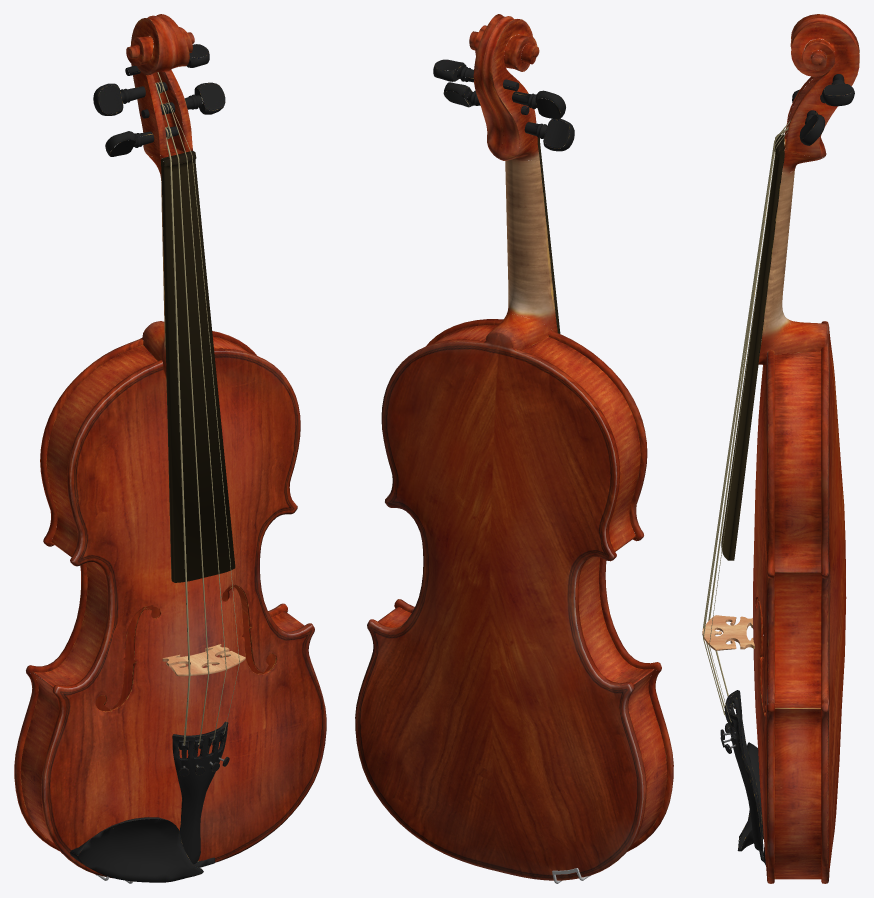
Rendered from violin.glb.
3 renders of one model, left to right at view 1: azimuth 30°, elevation 25°; view 2: azimuth 150°, elevation 25°; view 3: azimuth 270°, elevation 25°, orthographic. The views are drawn at different scales.
Parts seen in each view (by area): view 1: Violin; view 2: Violin; view 3: Violin.
Part boxes in pixels (x1,y1,x2,y2): Violin: [14, 14, 326, 883]; Violin: [355, 14, 673, 883]; Violin: [702, 14, 859, 883].
Size of the model in its own units: 2.13 by 6.05 by 1.02.
1 material, 1 textured.
